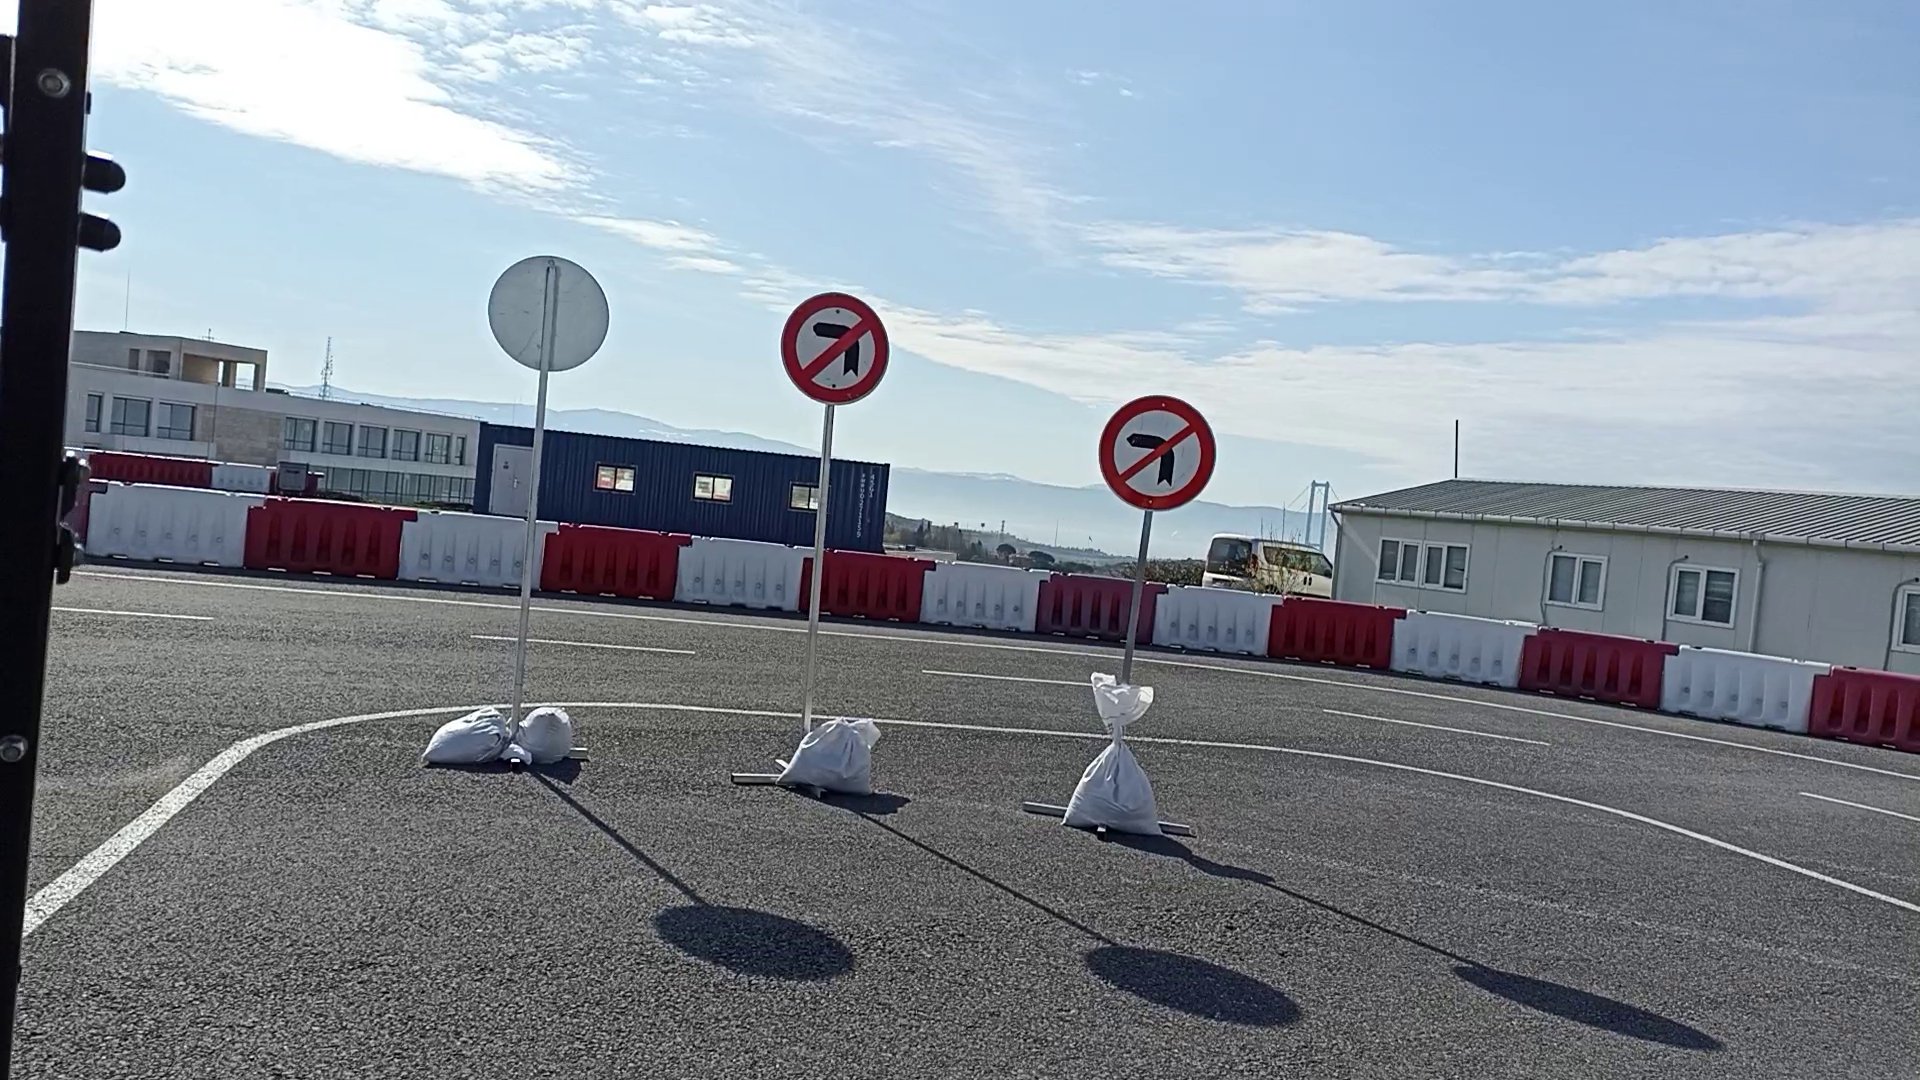noleft: (1093, 392, 1218, 513), (775, 290, 891, 407)
